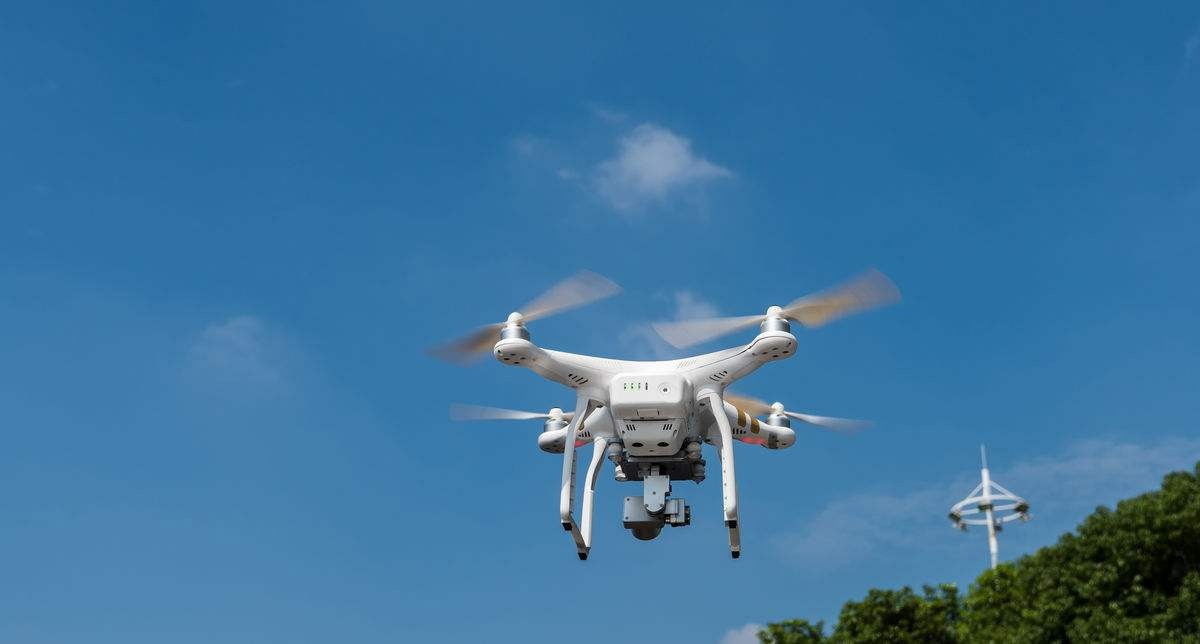DJI: (464, 295, 846, 568)
